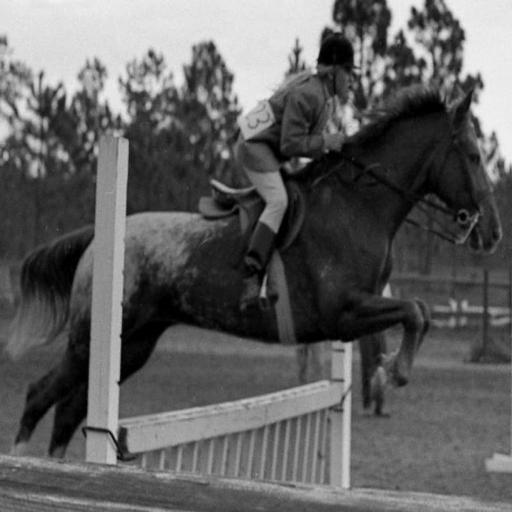Horse: (3, 79, 503, 459)
